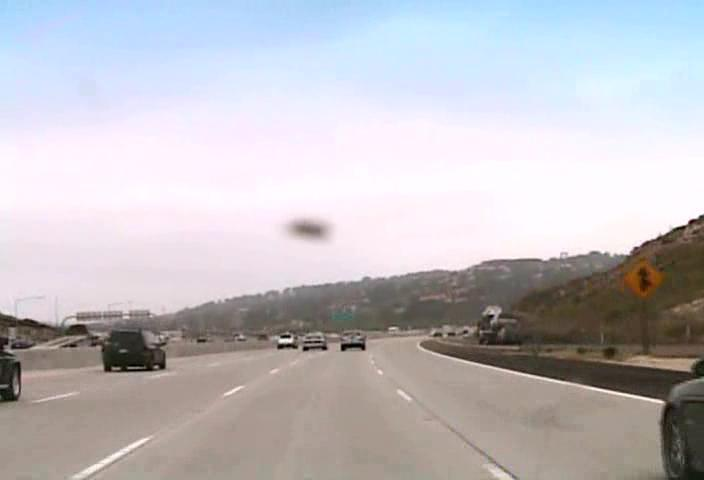merge: (622, 257, 664, 299)
